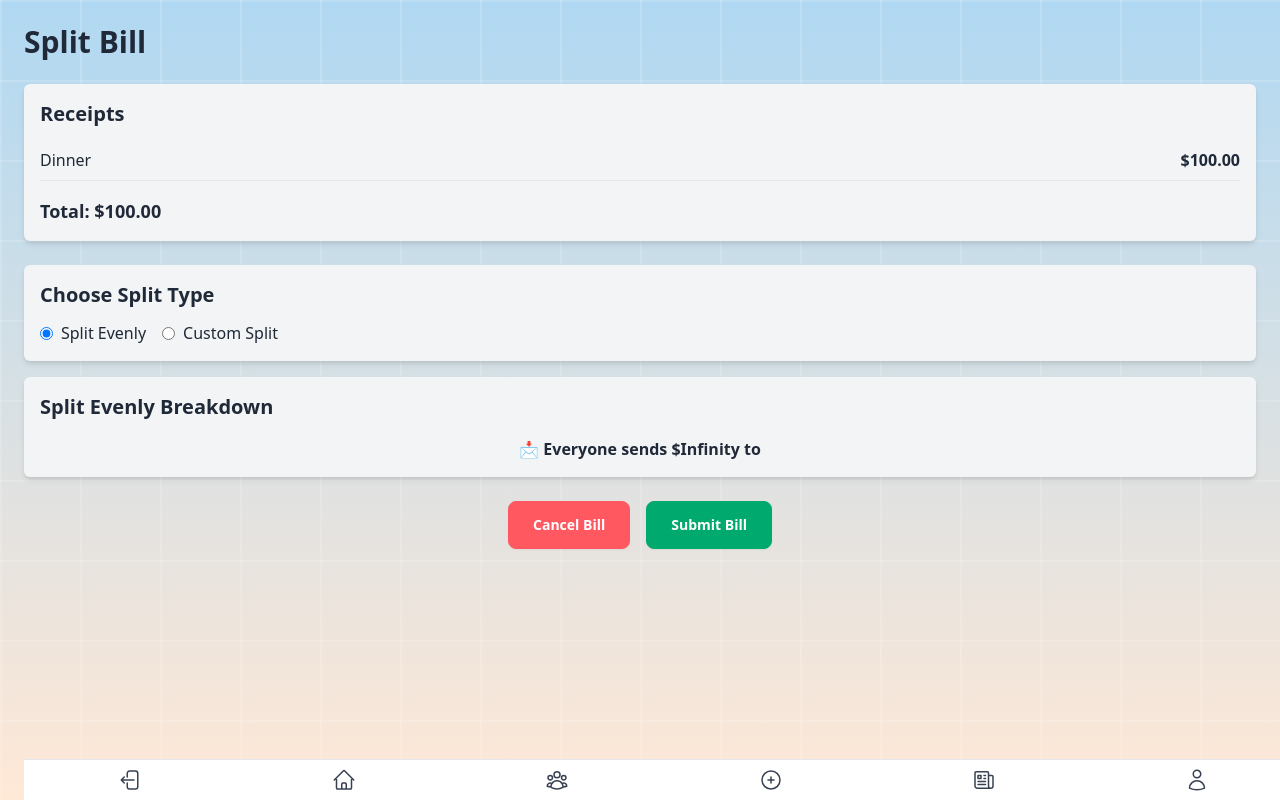
Scenario: SplitBill Page › allows adjusting custom split percentages and updates UI
Note: Change split type to custom to reveal slider controls
Step 1. Click the radio button showing "custom" → (168, 333), box [162,326,175,340]
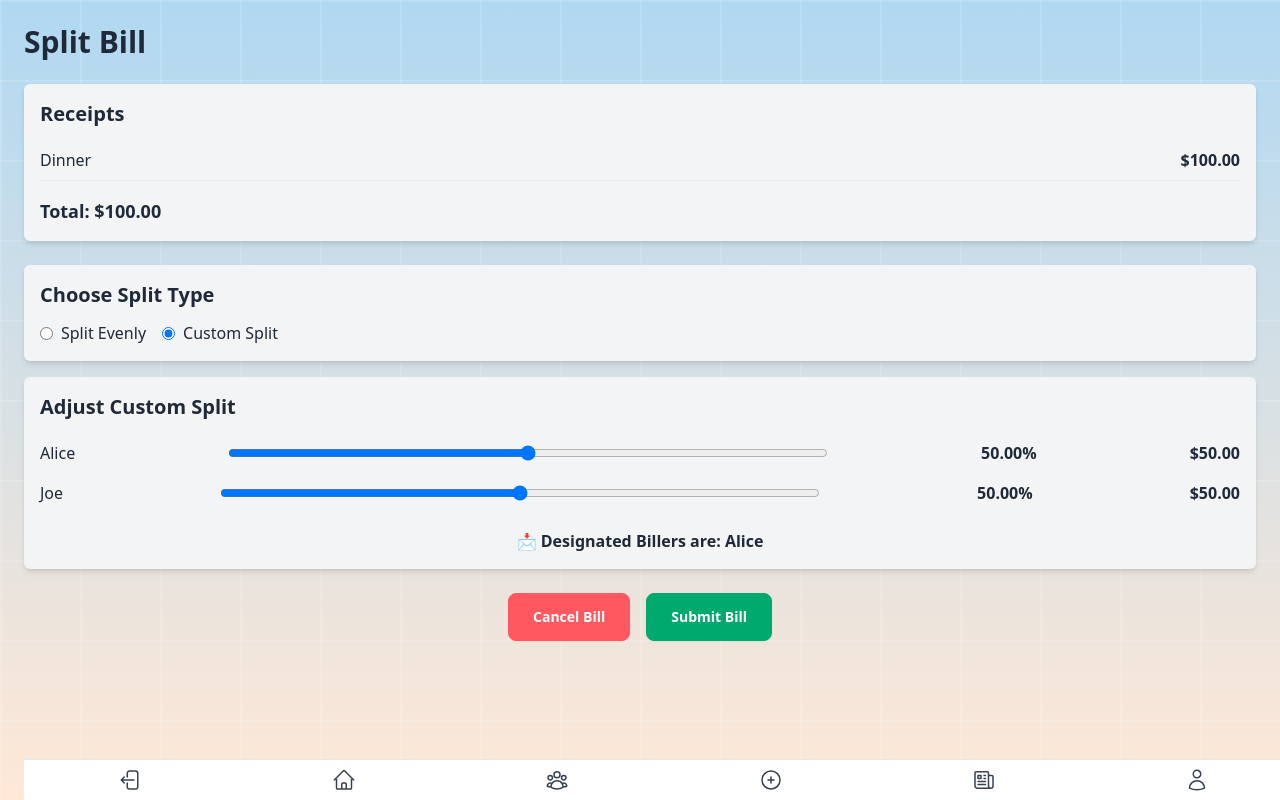
Expected: the text "Alice" is shown, [40,441,75,465]
Expected: the text "Joe" is shown, [40,481,63,505]
Expected: the 1st slider is shown
Note: Simulate changing first slider from even split
Step 2. Set the 1st slider to "70" → (645, 453), box [228,445,828,461]
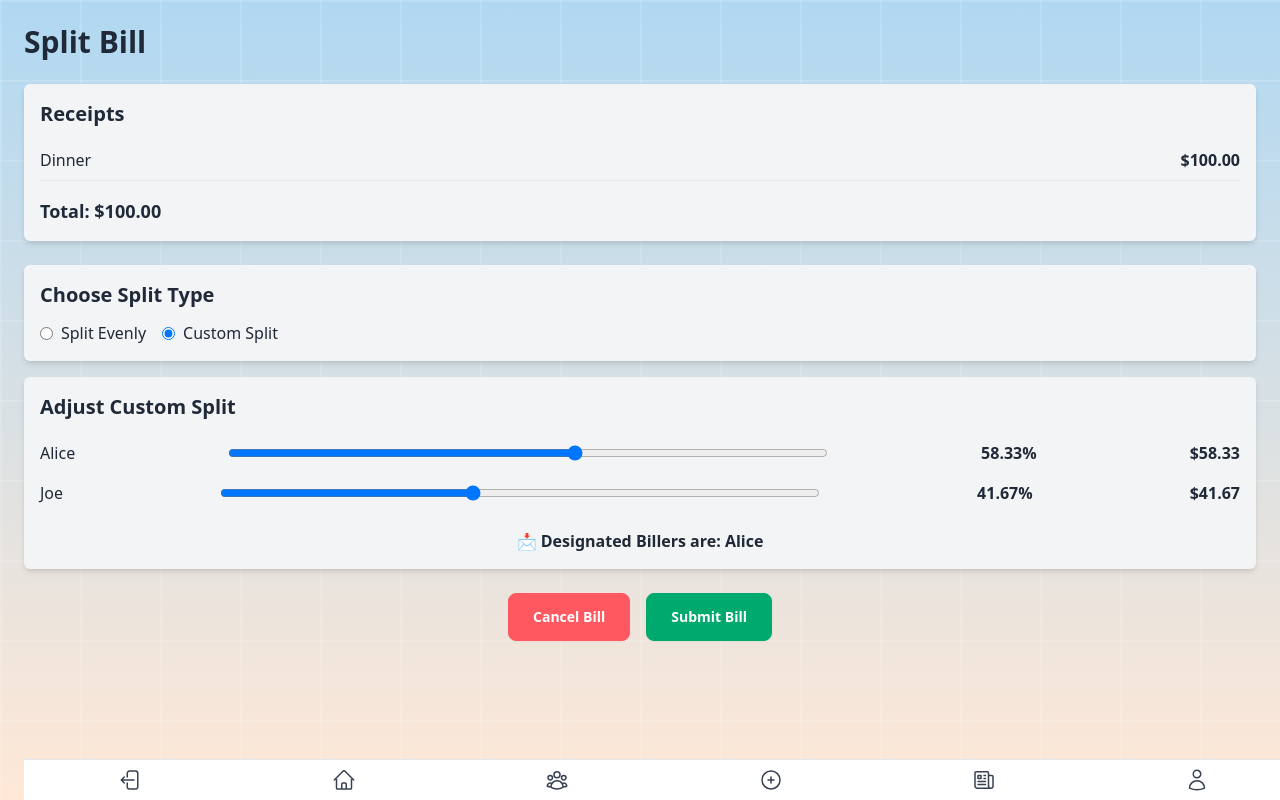
Expected: the text "58.33%" is shown, [981,441,1037,465]
